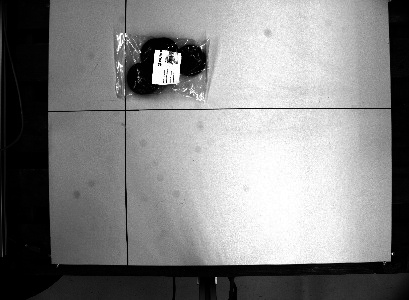t1: (110, 28, 214, 103)
